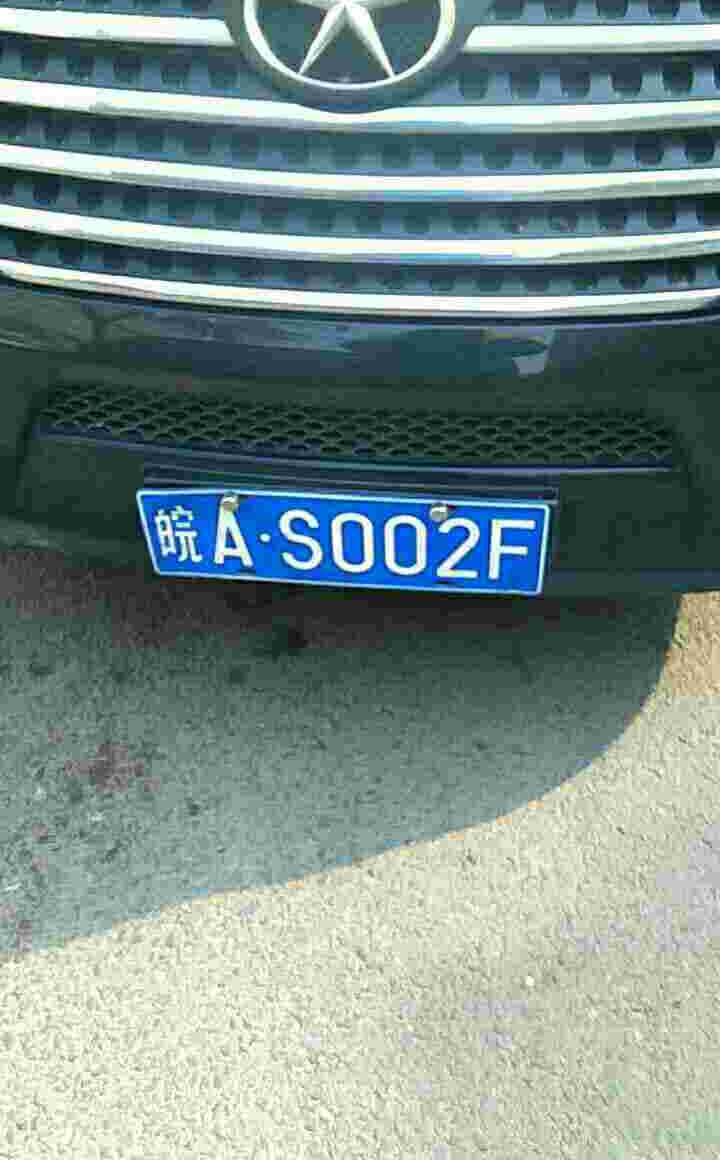license_plate: (143, 488, 566, 599)
